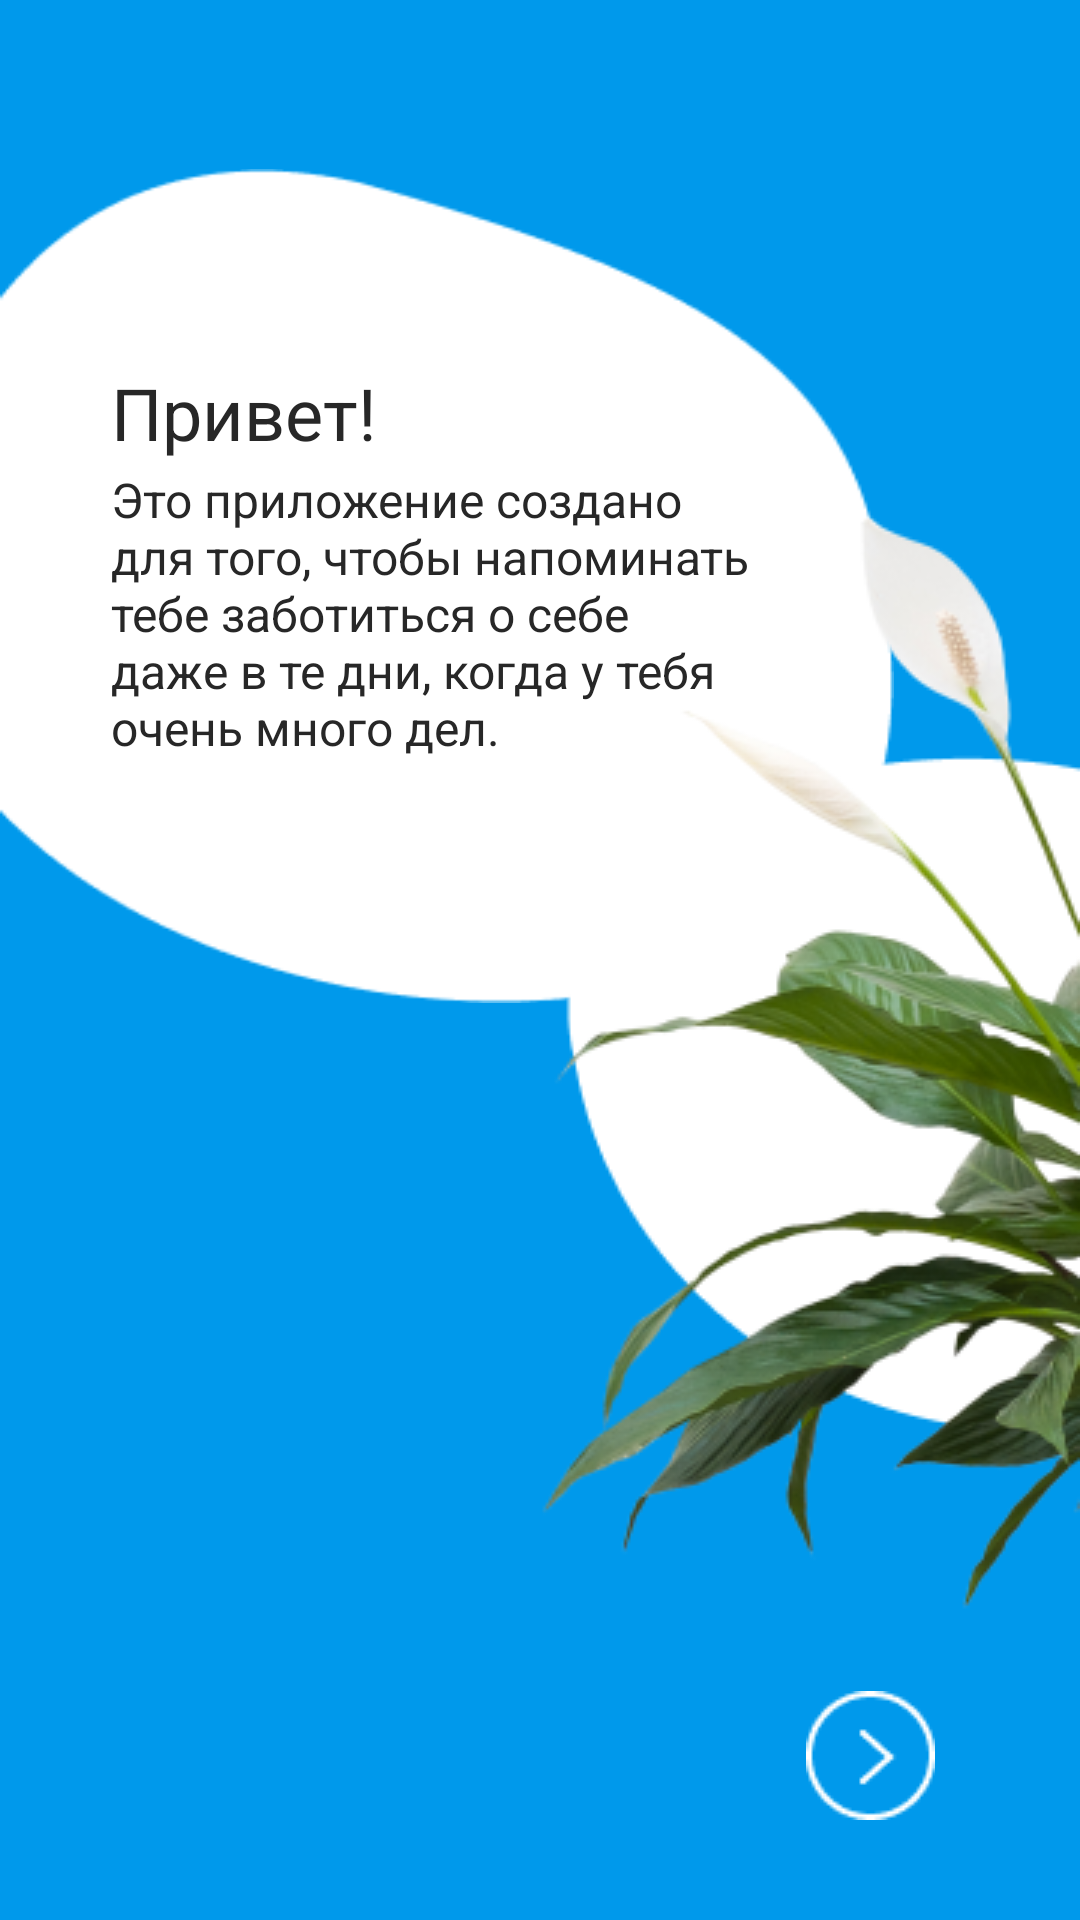

Locate icon controls on the screen. Image size 1080×1920, boxes as (x1, y1, x2, y2).
Кнопка далее: (806, 1691, 935, 1820)
